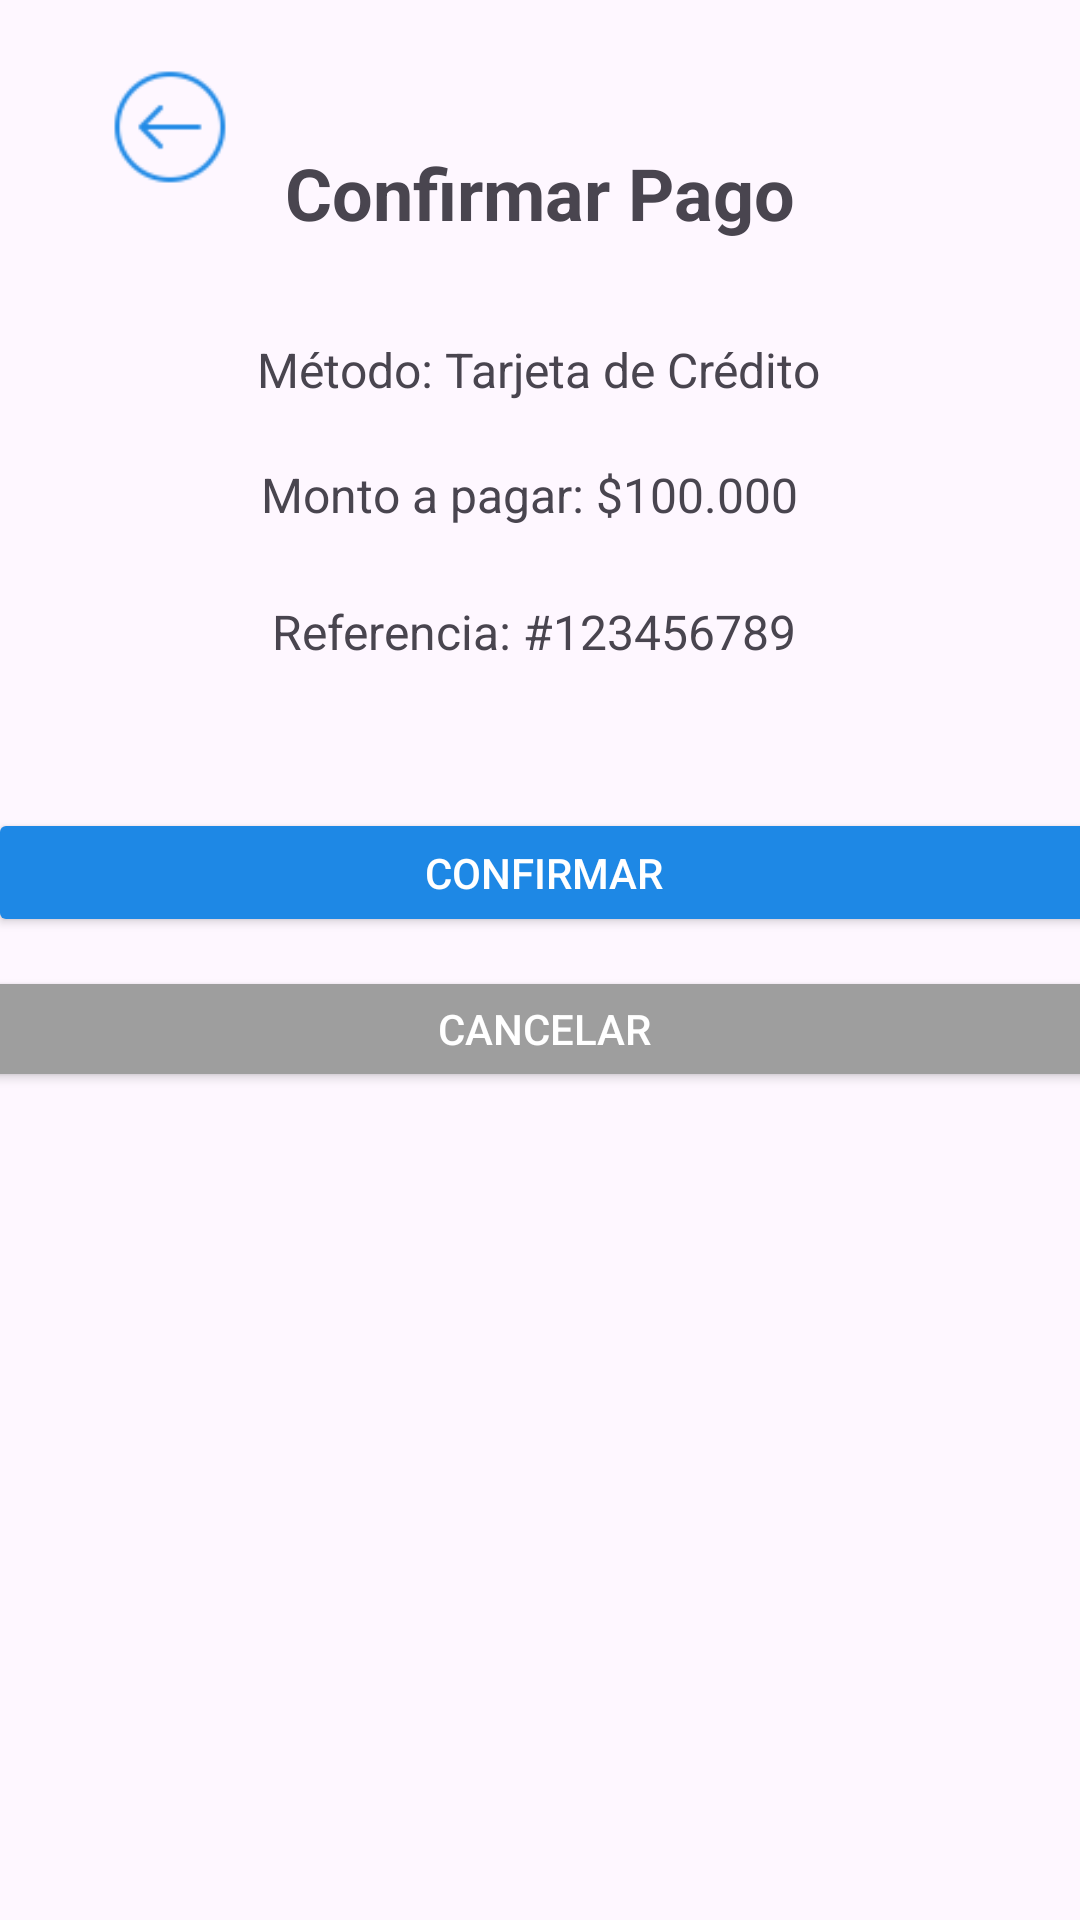

Icons on this 1080×1920 Android screen, each with the point to tap as [x,y]:
Volver: [170,127]
